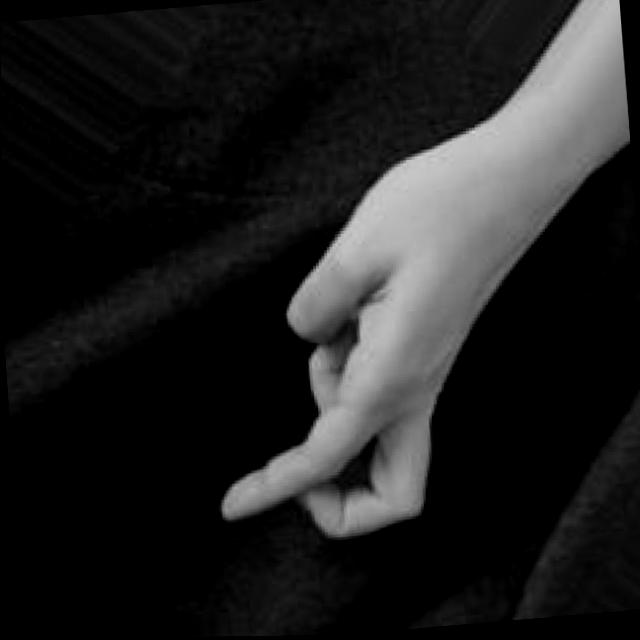P: (182, 150, 553, 555)
